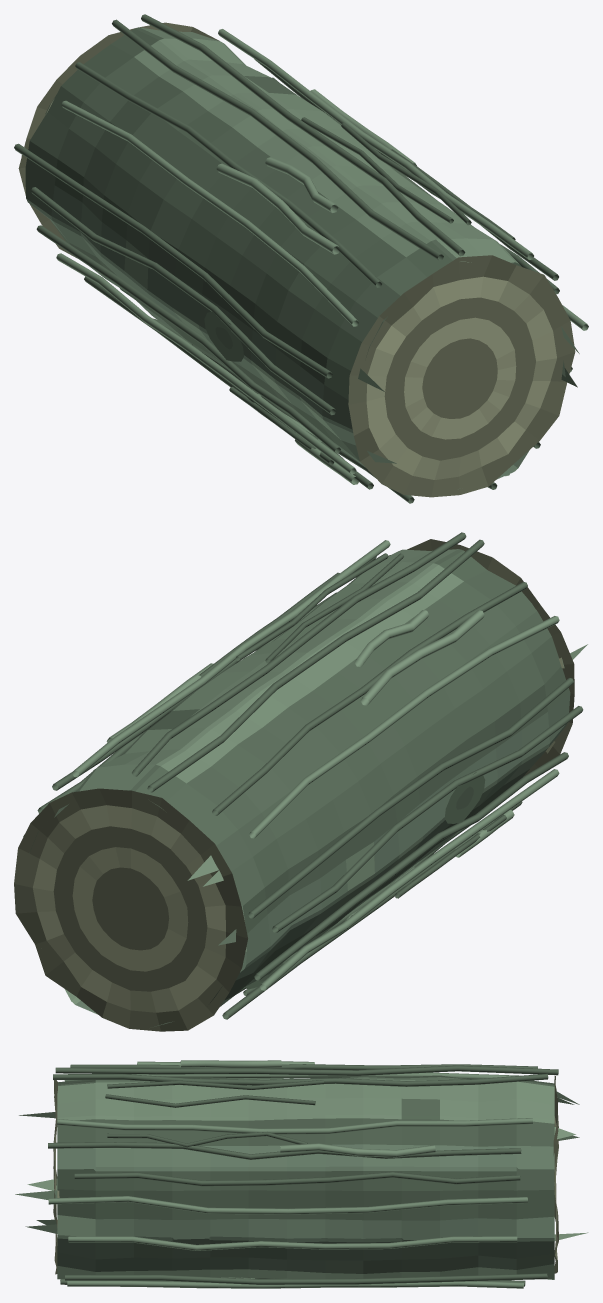
The model's file is WillowLog.glb.
The picture shows the model from 3 angles, top to bottom: view 1: azimuth 30°, elevation 25°; view 2: azimuth 150°, elevation 25°; view 3: azimuth 270°, elevation 25°; orthographic projection. The views are drawn at different scales.
Parts seen in each view (by area): view 1: Willow_Log_Rough_ExportTemp; view 2: Willow_Log_Rough_ExportTemp; view 3: Willow_Log_Rough_ExportTemp.
Part boxes in pixels (x1=…): Willow_Log_Rough_ExportTemp: x1=14, y1=14, x2=588, y2=503; Willow_Log_Rough_ExportTemp: x1=14, y1=532, x2=587, y2=1031; Willow_Log_Rough_ExportTemp: x1=15, y1=1060, x2=588, y2=1288.
Size of the model in its own units: 0.2489 by 0.252 by 0.6358.
